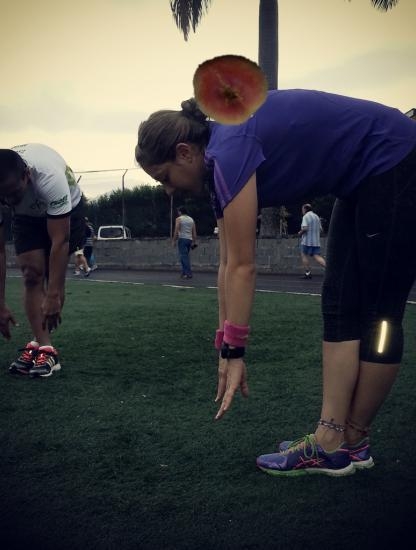Peach: (192, 49, 267, 124)
